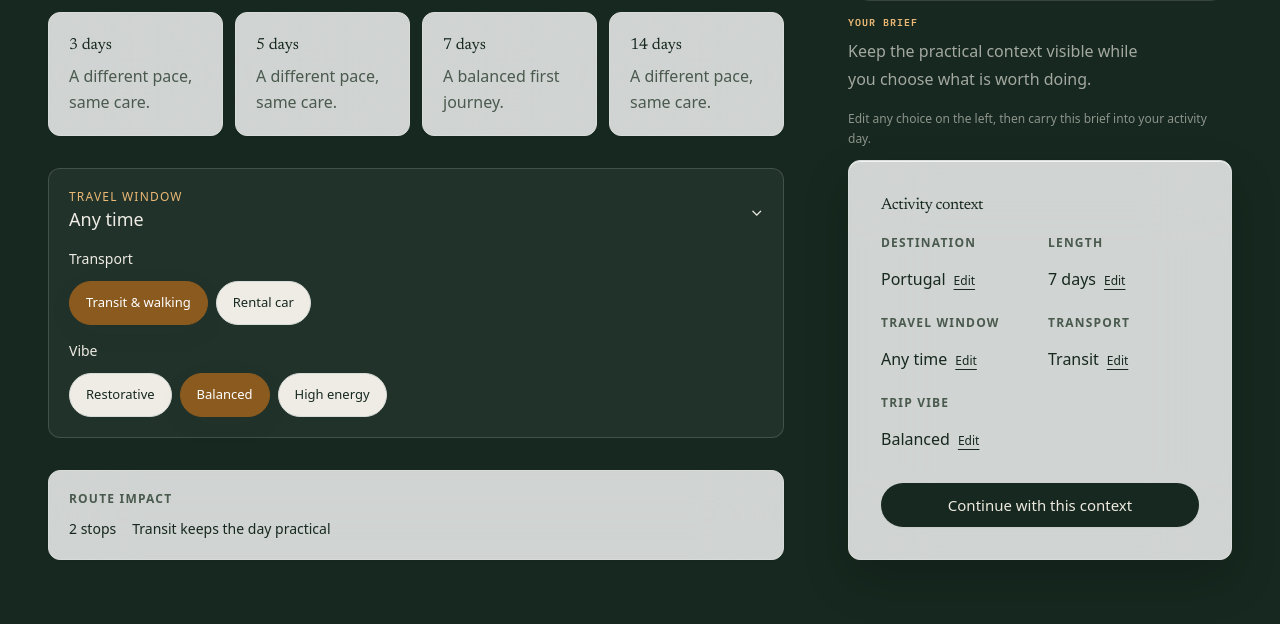
Test: PlannerSingleScreen › marks the primary action disabled while pending
This screenshot has width=1280, height=624.
(page scrolled)
Click the button "Continue with this context" at {"x": 1040, "y": 505}, box [881,483,1199,527]
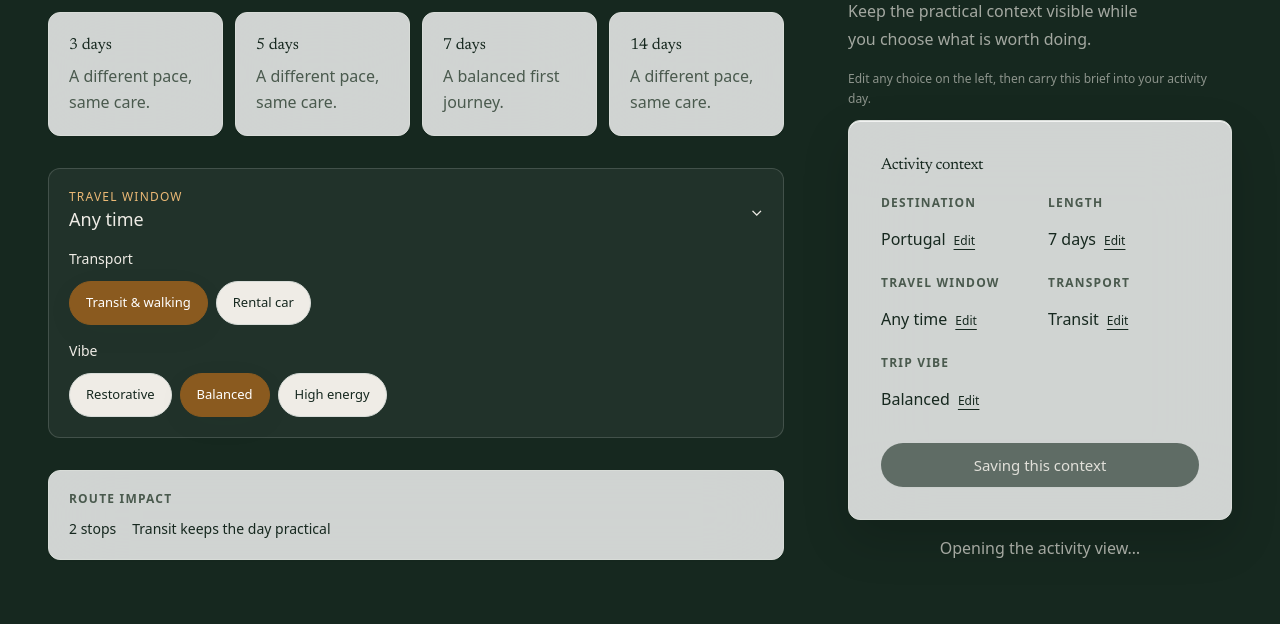
Expected: the button "Saving this context" is disabled, [881,443,1199,487]
